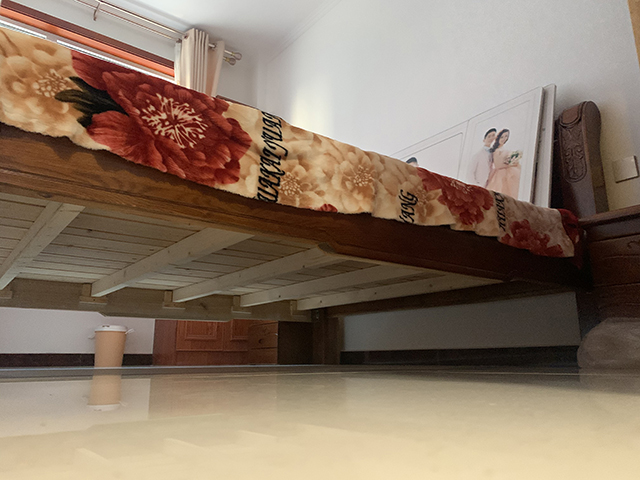bed: (1, 26, 609, 367)
cabinet: (151, 319, 246, 368), (246, 320, 311, 366)
trashcan: (88, 323, 133, 370)
